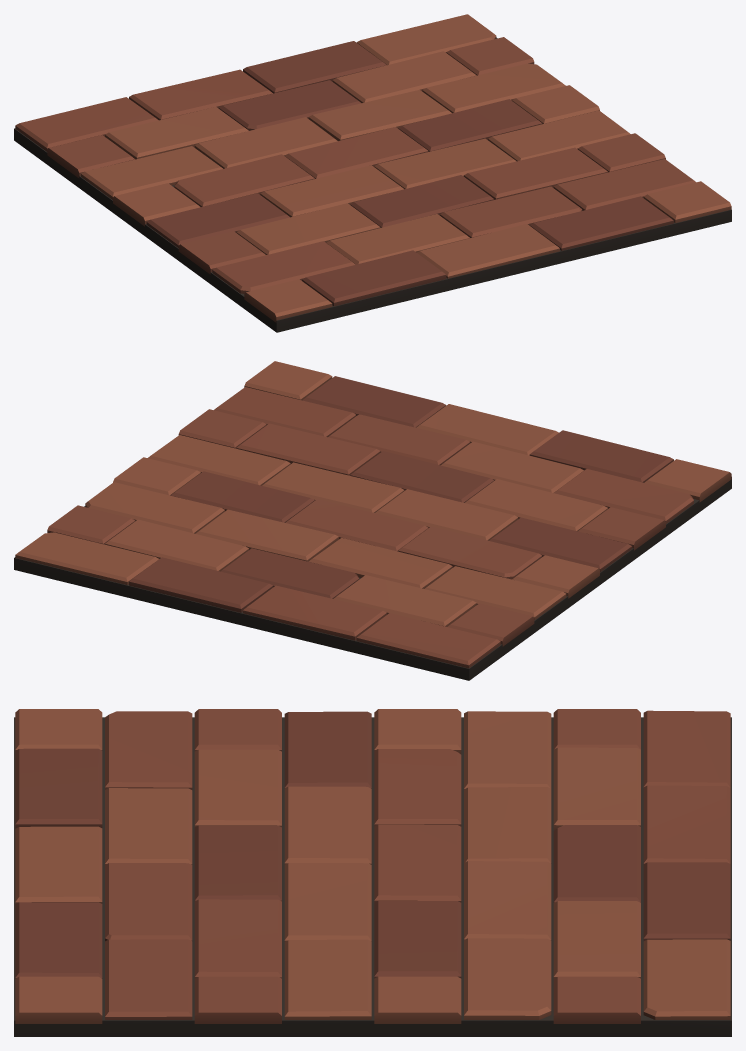
Rendered from floor_bricks_large_C.glb.
The picture shows the model from 3 angles, top to bottom: view 1: azimuth 30°, elevation 25°; view 2: azimuth 150°, elevation 25°; view 3: azimuth 270°, elevation 25°; orthographic projection. The views are drawn at different scales.
Visible parts, largest first — view 1: Item; view 2: Item; view 3: Item.
Part boxes in pixels (x1,y1,x2,y2): Item: [14, 14, 731, 332]; Item: [14, 361, 731, 680]; Item: [14, 709, 731, 1036].
Bounding box in the file's own units: 4 × 0.1621 × 4.
1 material, 1 textured.
